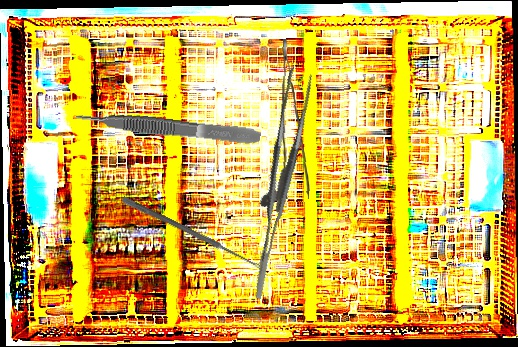Surgical Spoon: (121, 196, 264, 271)
Tissue Forceps: (216, 66, 336, 300), (74, 105, 262, 148), (277, 38, 315, 200)
